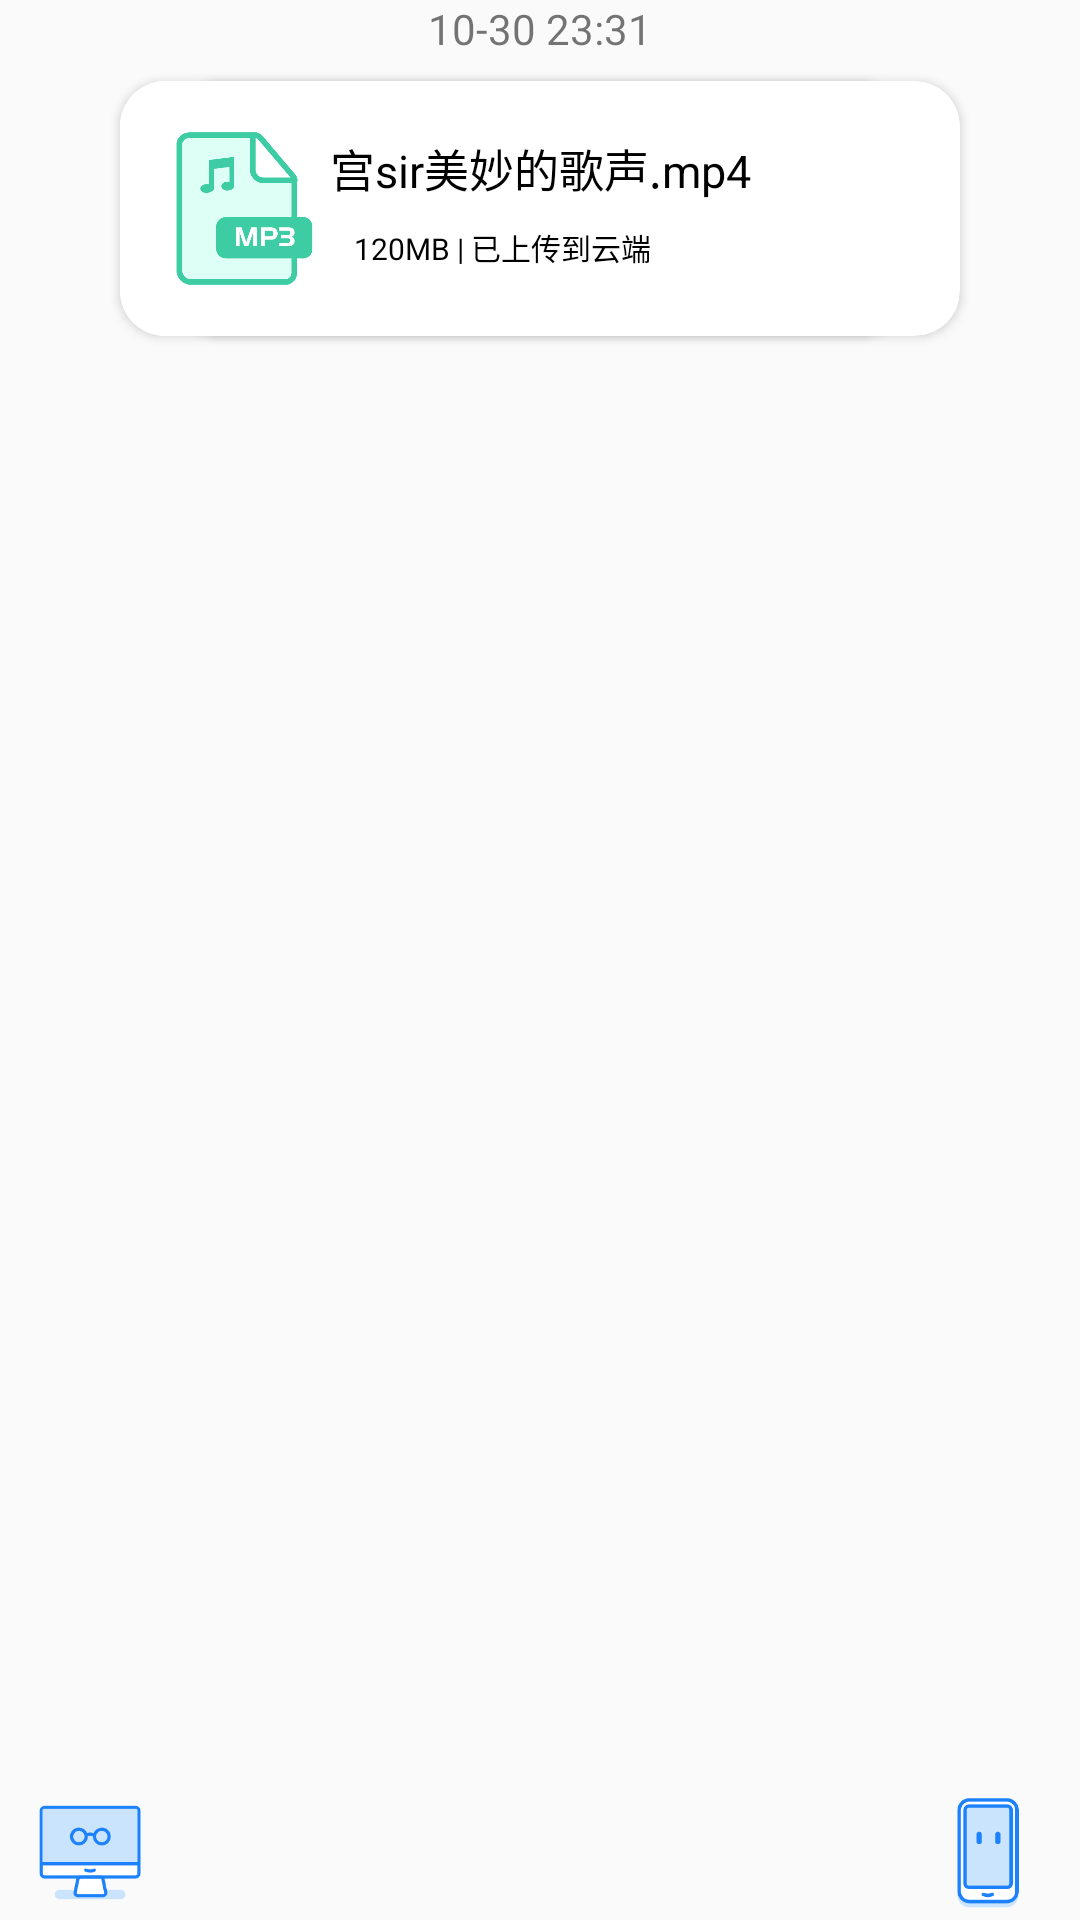

Where to tap for icons on this 1080 × 1920 app screen, as (x,y):
device phone: (988,1852)
